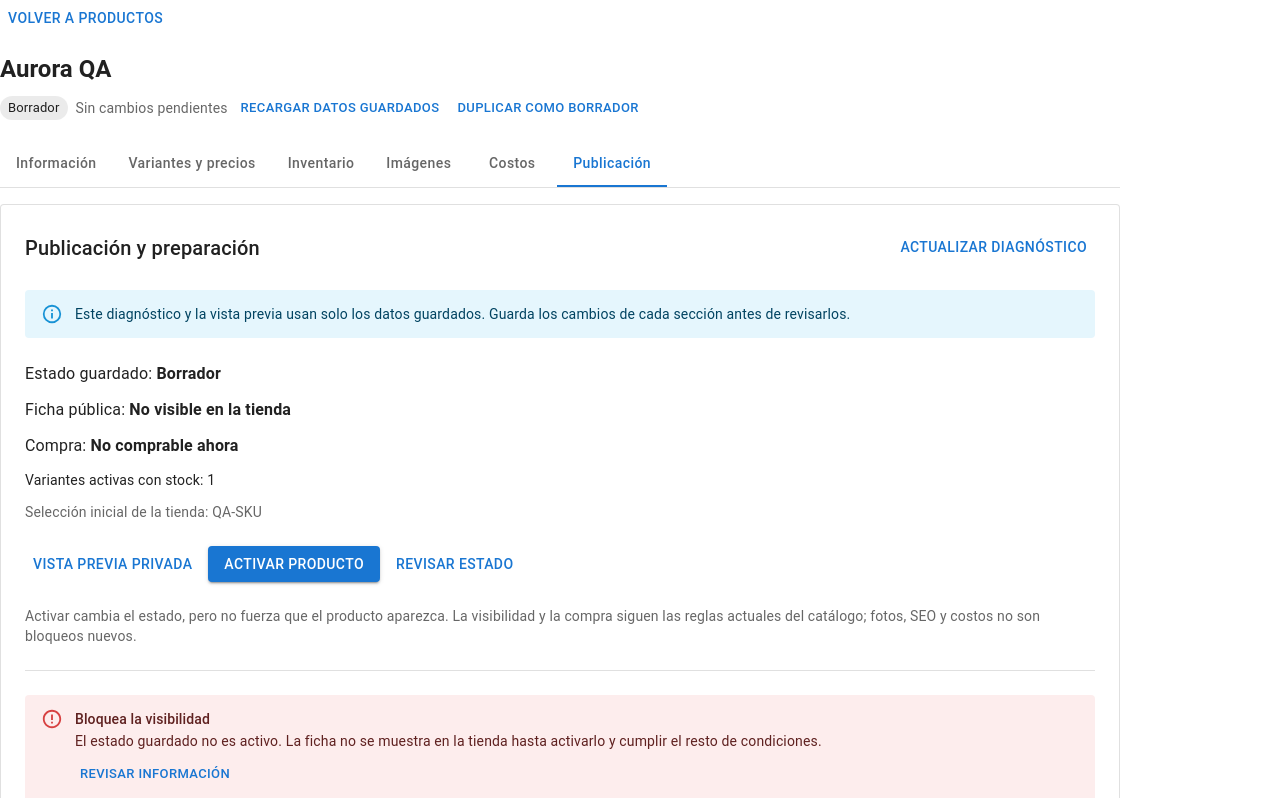
Test: routed product workspace › activates through the existing saved product PATCH and retains revision conflict input
Check: the text "No visible en la tienda" is shown, box [129,400,291,419]
Step 1. Click the button "Activar producto" → (294, 564), box [208,546,380,582]
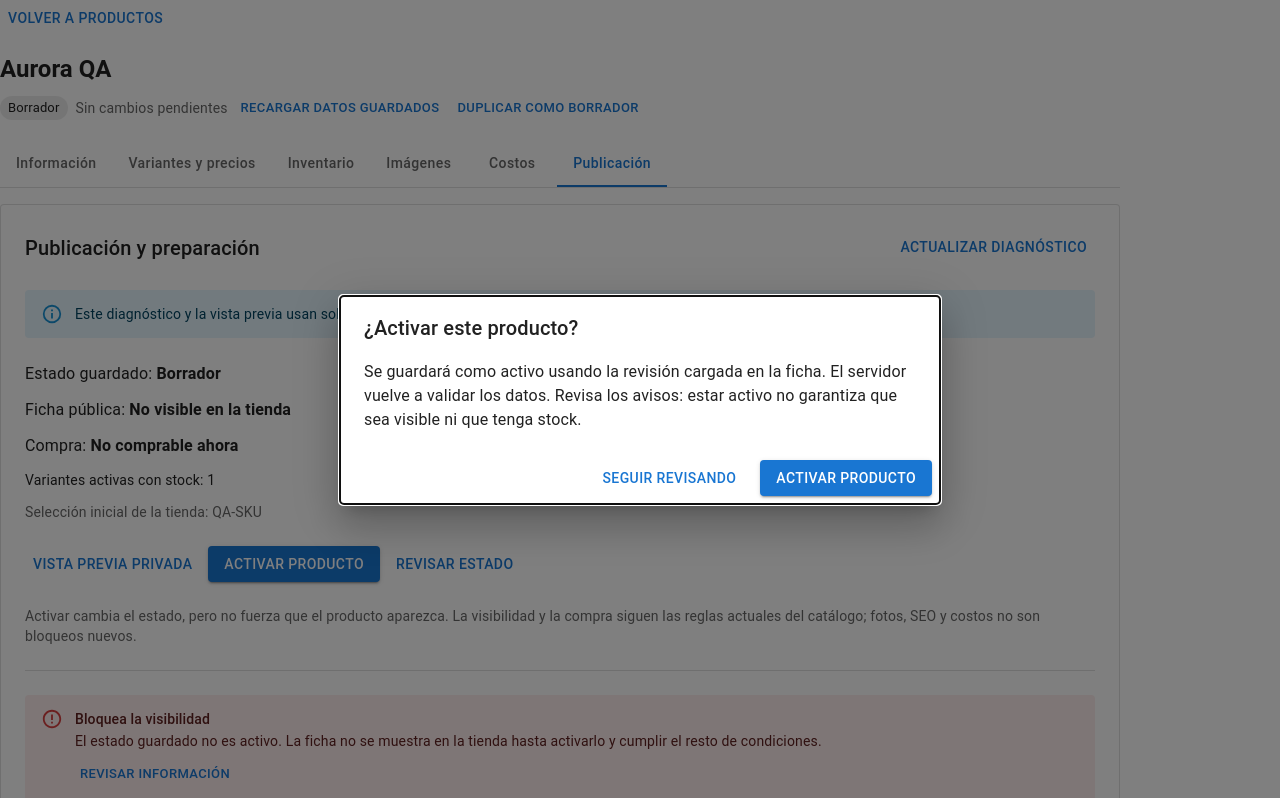
Step 2. Click the button "Activar producto" → (846, 478), box [760,460,932,496]
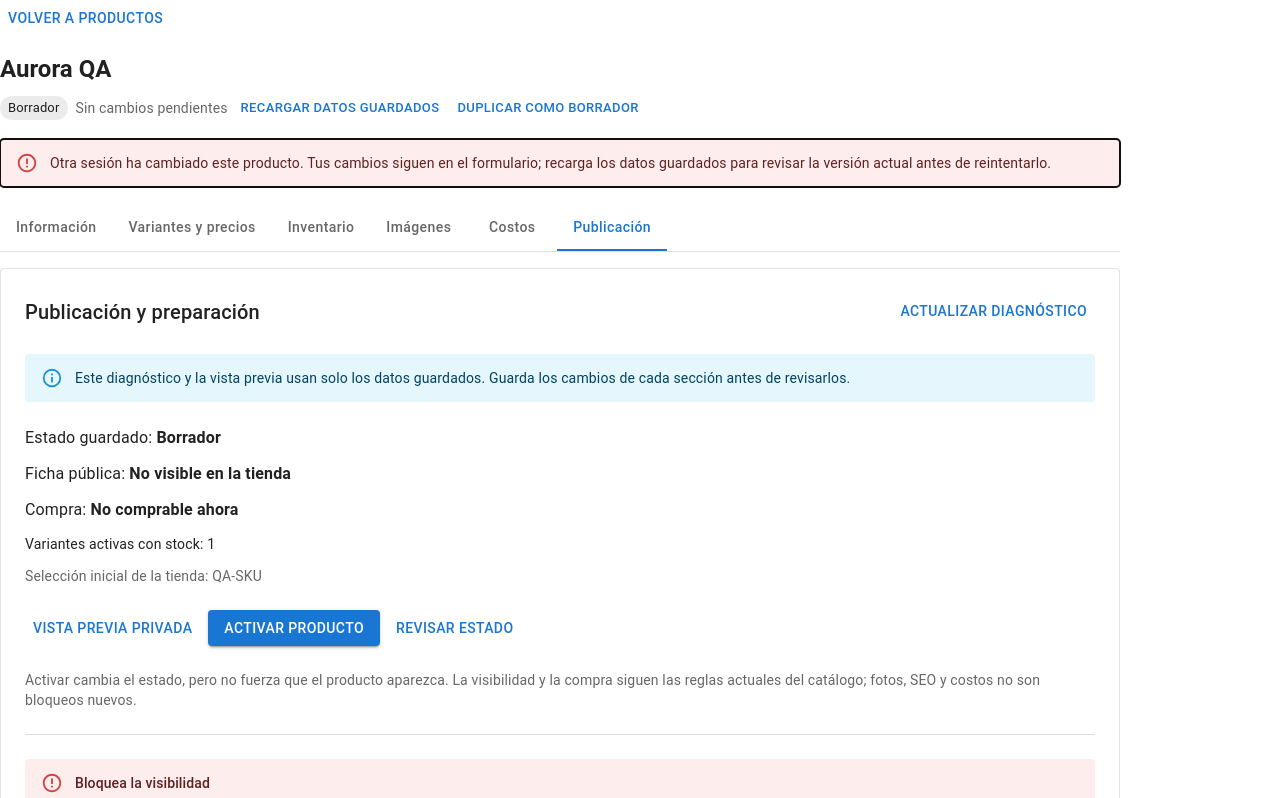
Check: the heading "Aurora QA" is shown, box [0,54,111,82]
Check: the text "Otra sesión ha cambiado este producto. Tus cambios siguen en el formulario; recarga los datos guardados para revisar la " is shown, box [50,155,1051,171]
